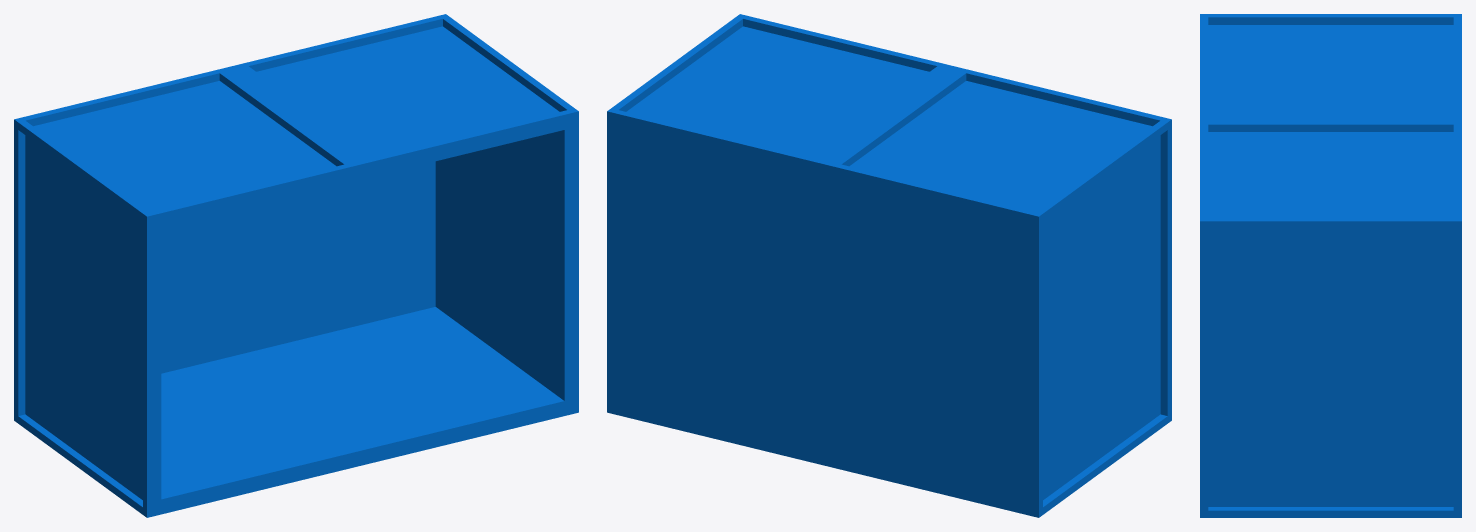
File: industrial_container_1.dae
3 renders of one model, left to right at view 1: azimuth 30°, elevation 25°; view 2: azimuth 150°, elevation 25°; view 3: azimuth 270°, elevation 25°, orthographic.
Parts seen in each view (by area): view 1: instance_0_001, instance_0_002, instance_0, instance_0_003; view 2: instance_0, instance_0_002, instance_0_003; view 3: instance_0_003, instance_0_002, instance_0.
Boxes of the visible parts, x1,y1,x2,y2 form: instance_0_001: [161, 130, 564, 499]; instance_0_002: [18, 73, 343, 506]; instance_0: [14, 14, 578, 517]; instance_0_003: [249, 19, 566, 157]; instance_0: [607, 14, 1171, 517]; instance_0_002: [842, 73, 1167, 506]; instance_0_003: [619, 19, 936, 157]; instance_0_003: [1208, 124, 1453, 510]; instance_0_002: [1208, 17, 1453, 110]; instance_0: [1200, 14, 1461, 517].
Bounding box in the file's own units: 236 × 157 × 126.
